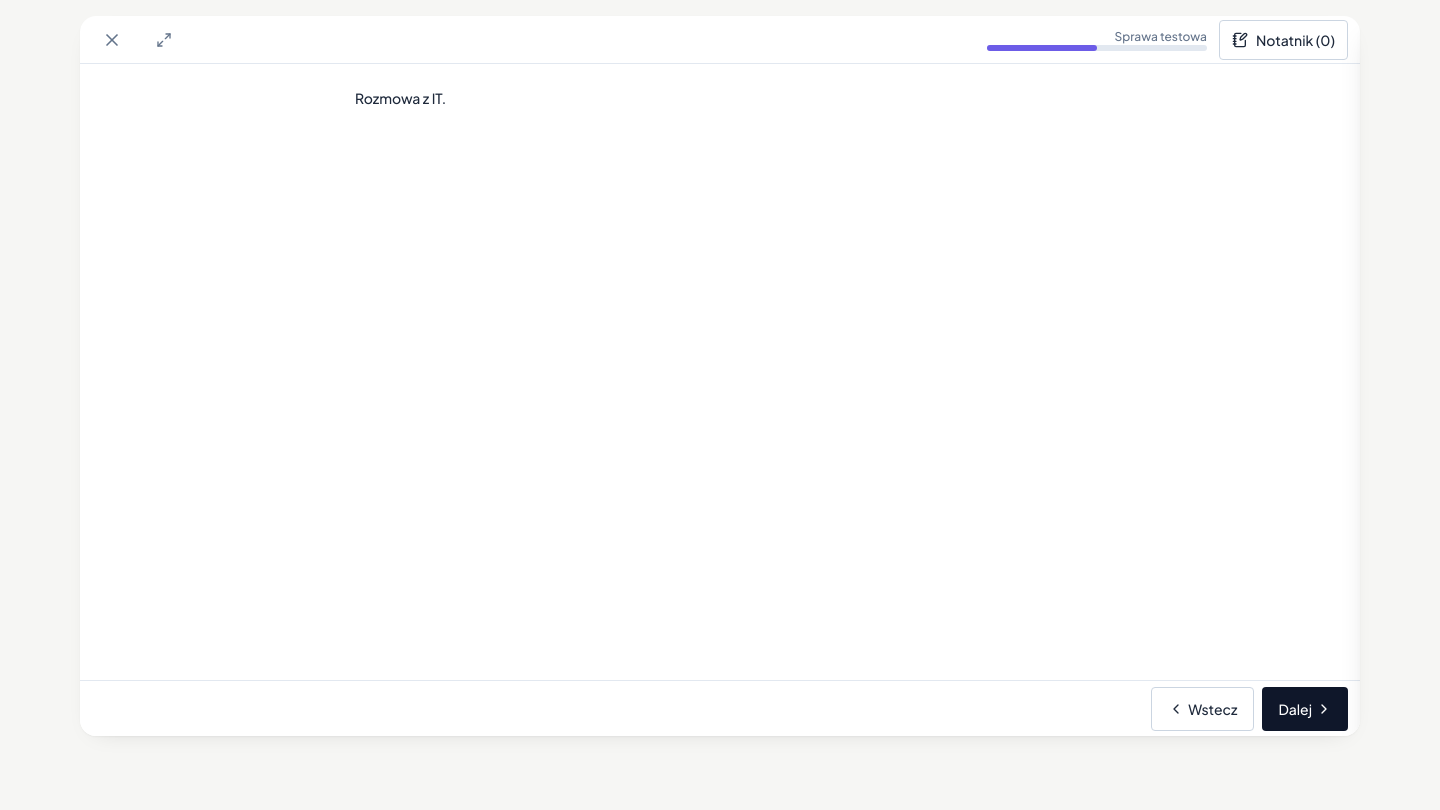
Test: CoursePlayer: teczka sprawy (DOSSIER) › podgląd ukończonej teczki ("Wstecz"): zakreślenie niczego nie zapisuje ani nie dopisuje notatek
Click the button "Wstecz": (1203, 708) [1151, 686, 1254, 730]
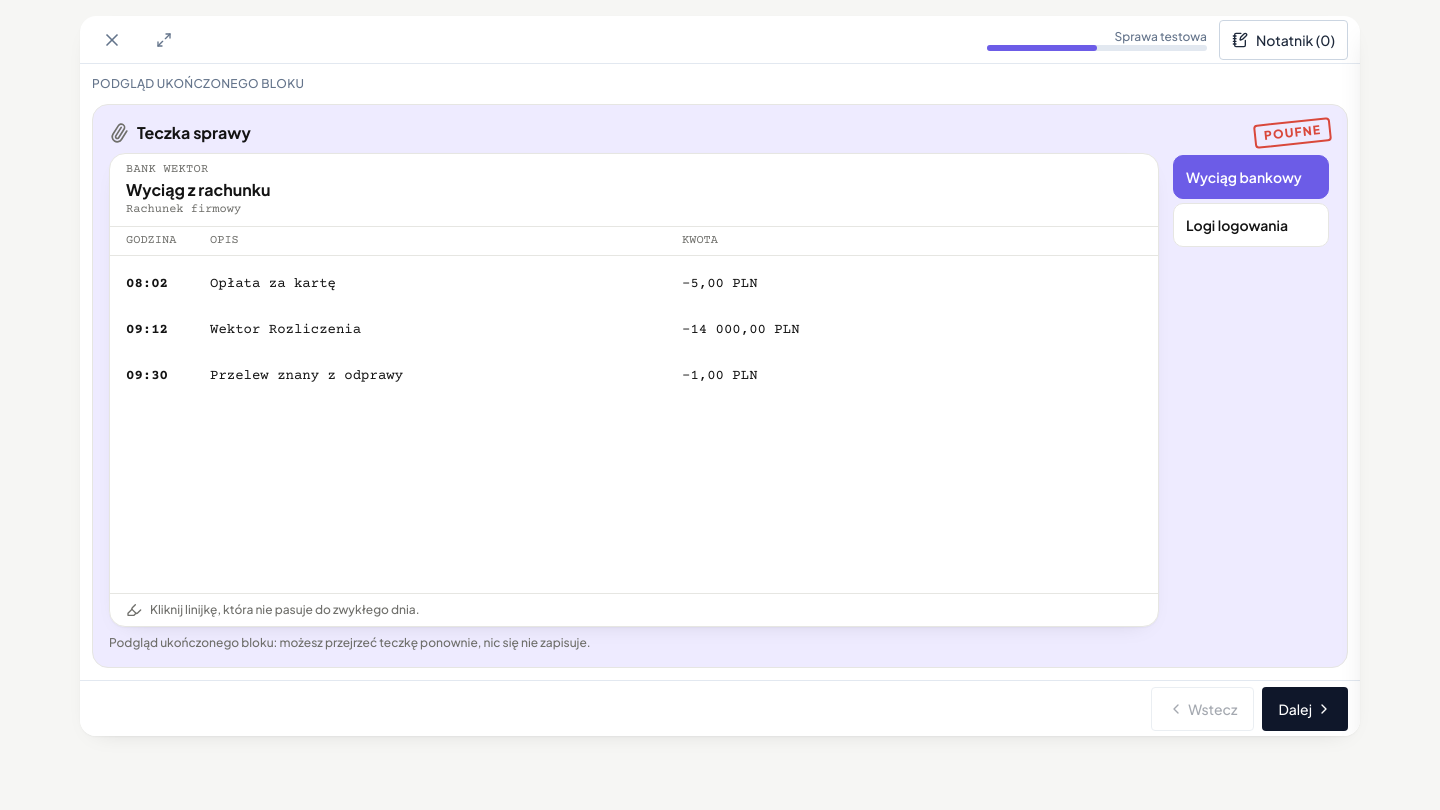
Click the button "09:12 Wektor Rozliczenia −14 000,00 PLN": (154, 329) [120, 308, 1148, 352]
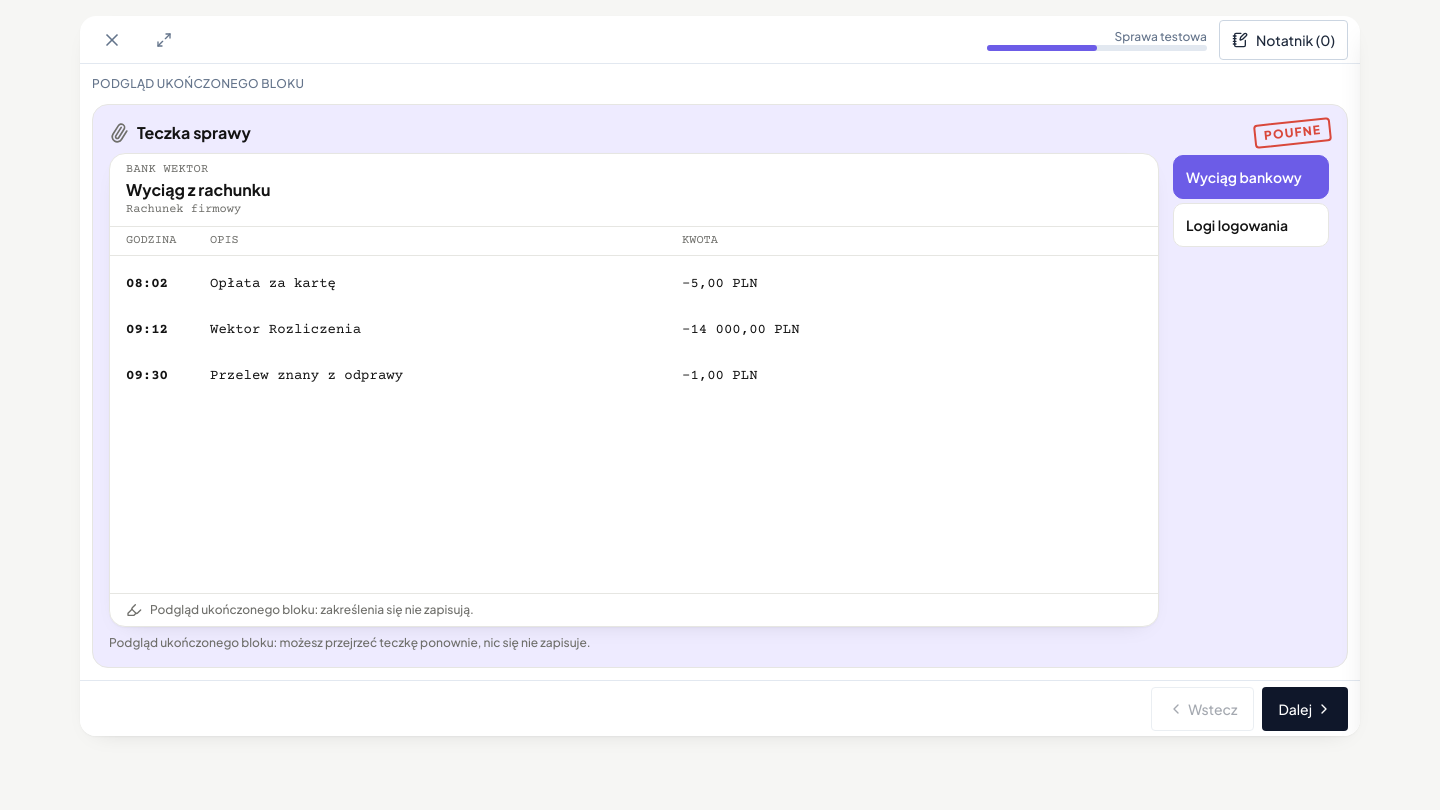
Check: the button "Notatnik (0)" is shown, box [1219, 20, 1348, 60]
Check: the message shows "zakreślenia się nie zapisują", box [150, 602, 474, 617]
